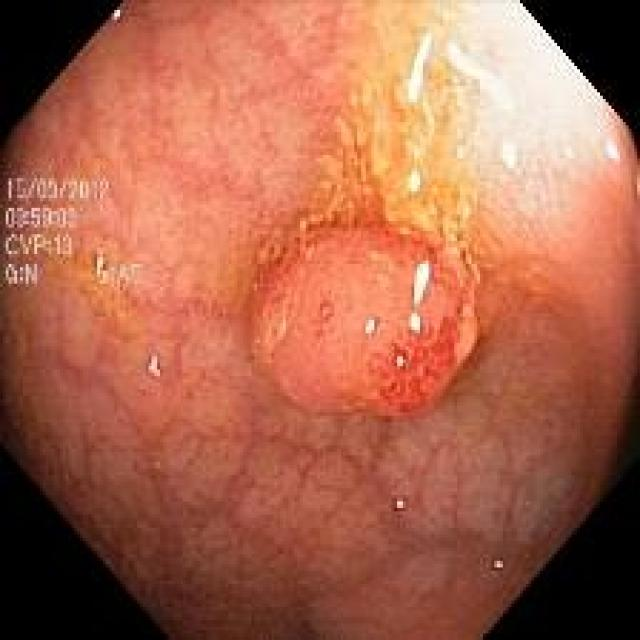Polyps: (252, 224, 479, 416)
